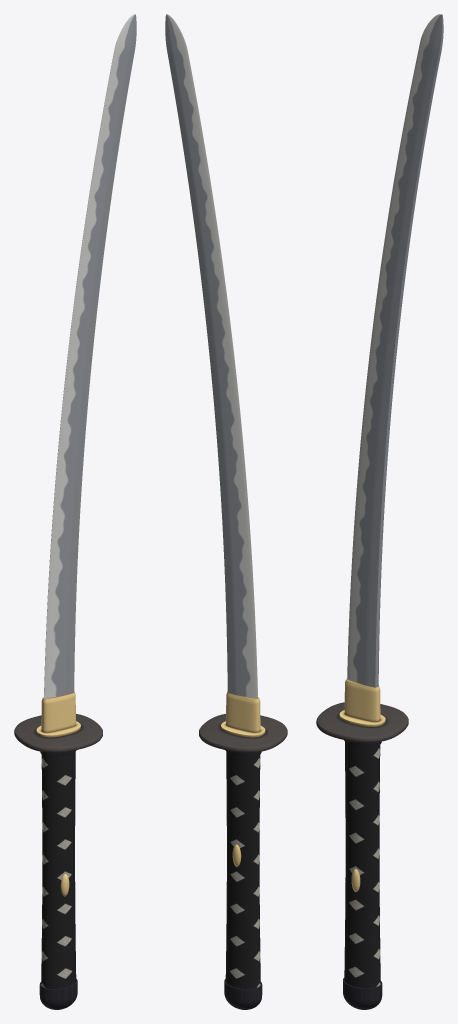
File: katana.glb
3 views of the same model, side by side, from view 1: azimuth 30°, elevation 25°; view 2: azimuth 150°, elevation 25°; view 3: azimuth 330°, elevation 25° (orthographic). The views are drawn at different scales.
Parts seen in each view (by area): view 1: Blade, Tsuka, Tsuba, Habaki, Fittings, Seppa; view 2: Blade, Tsuka, Tsuba, Habaki, Fittings, Seppa; view 3: Blade, Tsuka, Tsuba, Habaki, Fittings, Seppa.
Part boxes in pixels (<box>): Blade: <box>44,14,136,698</box>; Tsuka: <box>41,752,76,988</box>; Tsuba: <box>14,714,102,752</box>; Habaki: <box>41,692,75,732</box>; Fittings: <box>39,750,77,1009</box>; Seppa: <box>36,721,80,737</box>; Blade: <box>165,14,257,698</box>; Tsuka: <box>225,752,260,988</box>; Tsuba: <box>199,714,287,752</box>; Habaki: <box>226,692,260,732</box>; Fittings: <box>224,750,262,1009</box>; Seppa: <box>221,721,265,737</box>; Blade: <box>347,14,443,687</box>; Tsuka: <box>344,742,380,988</box>; Tsuba: <box>316,702,408,742</box>; Habaki: <box>344,679,380,721</box>; Fittings: <box>343,740,382,1009</box>; Seppa: <box>339,710,385,726</box>.
Bounding box in the file's own units: 0.1216 × 0.9852 × 0.075.
Materials: 7 (7 with a texture image).
